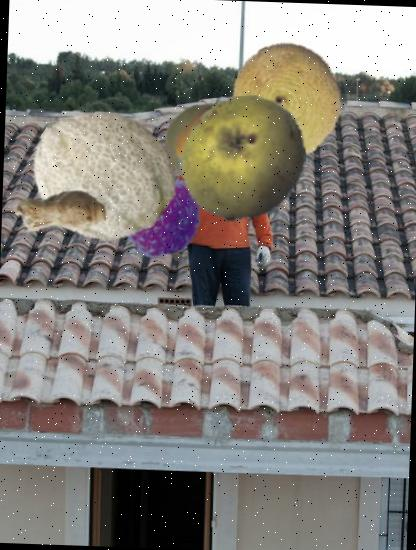Cantaloupe: (28, 99, 177, 248), (227, 41, 347, 160)
Ginger: (12, 162, 110, 260)
Grape: (161, 102, 247, 188)
Kumquats: (173, 97, 288, 212)
Pear: (177, 94, 309, 226)
Raspberry: (114, 170, 202, 258)
